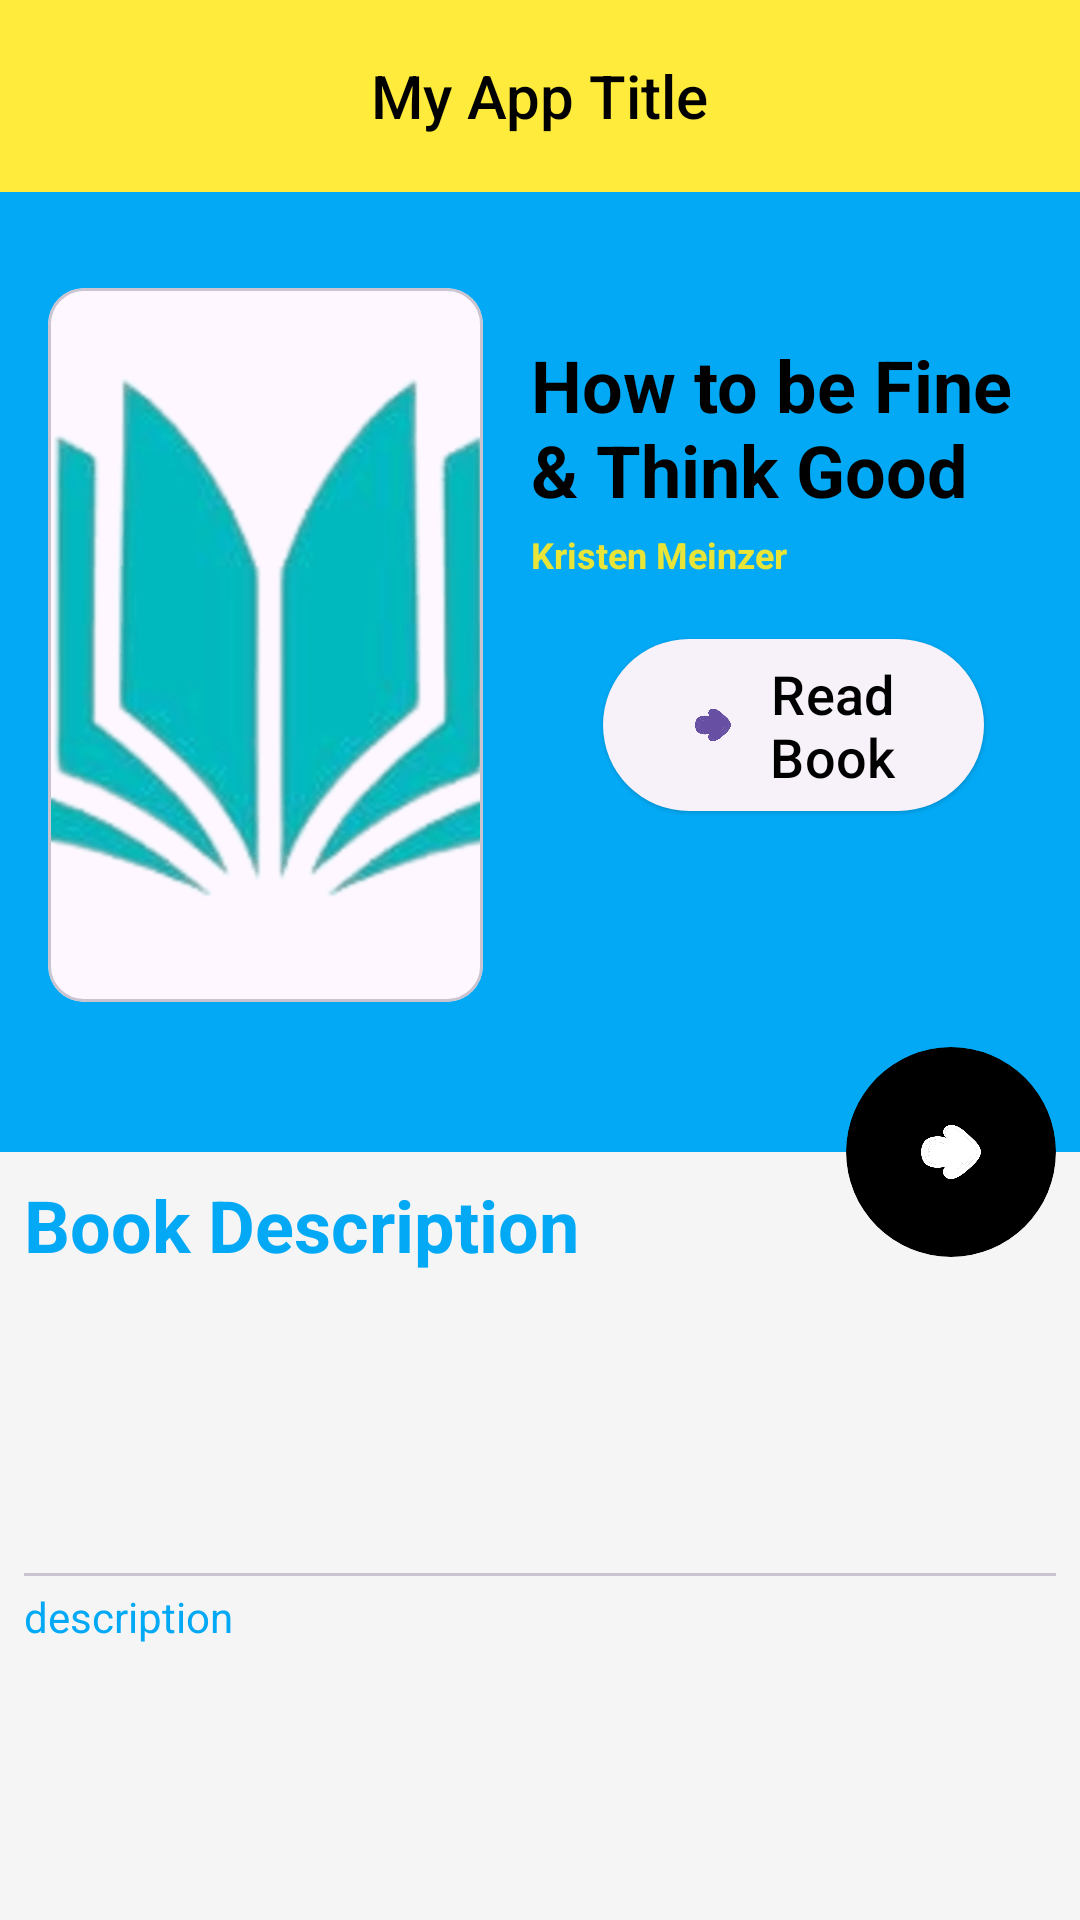

Icon click points for this 1080 x 1920 phone screenshot, format (x=x, y=y):
next: (x=951, y=1152)
